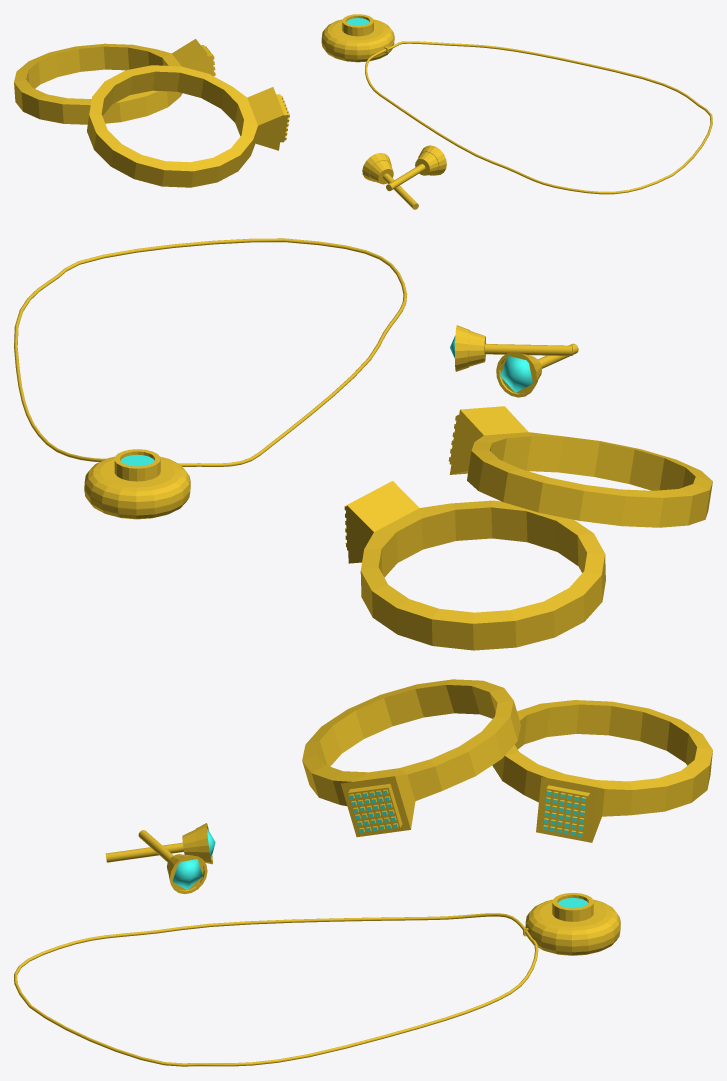
File: a2e1edcf-b61c-4cf3-85b5-426e8443b329.glb
The picture shows the model from 3 angles, top to bottom: view 1: azimuth 30°, elevation 25°; view 2: azimuth 150°, elevation 25°; view 3: azimuth 270°, elevation 25°; orthographic projection. The views are drawn at different scales.
Parts seen in each view (by area): view 1: Cylinder002, Cylinder001, Cylinder005, Line002, Cylinder004, Cylinder003; view 2: Cylinder001, Cylinder002, Cylinder005, Line002, Cylinder004, Cylinder003, Sphere001; view 3: Cylinder002, Cylinder001, Line002, Cylinder005, Cylinder003, Cylinder004, Sphere002.
Boxes of the visible parts, x1,y1,x2,y2 form: Cylinder002: (87, 65, 289, 187); Cylinder001: (14, 39, 215, 124); Cylinder005: (321, 14, 394, 62); Line002: (365, 41, 712, 194); Cylinder004: (386, 145, 446, 191); Cylinder003: (362, 153, 418, 209); Cylinder001: (344, 481, 605, 650); Cylinder002: (448, 406, 712, 527); Cylinder005: (84, 449, 190, 519); Line002: (14, 238, 407, 466); Cylinder004: (455, 325, 572, 371); Cylinder003: (496, 343, 578, 397); Sphere001: (500, 356, 532, 392); Cylinder002: (302, 679, 520, 837); Cylinder001: (492, 700, 712, 842); Line002: (14, 913, 538, 1066); Cylinder005: (525, 893, 620, 955); Cylinder003: (105, 823, 212, 864); Cylinder004: (138, 830, 207, 893); Sphere002: (173, 859, 202, 889).
Size of the model in its own units: 532801 by 57848 by 473721.
